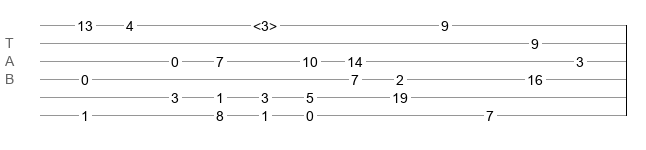0: (81, 72, 89, 82), (171, 54, 179, 64), (306, 108, 314, 118)
1: (81, 108, 89, 118), (216, 90, 224, 100), (261, 108, 269, 118)
10: (302, 54, 318, 64)
13: (77, 18, 93, 28)
14: (347, 54, 363, 64)
16: (527, 72, 543, 82)
19: (392, 90, 408, 100)
2: (396, 72, 404, 82)
3: (171, 90, 179, 100), (261, 90, 269, 100), (576, 54, 584, 64)
4: (126, 18, 134, 28)
5: (306, 90, 314, 100)
7: (216, 54, 224, 64), (351, 72, 359, 82), (486, 108, 494, 118)
8: (216, 108, 224, 118)
9: (441, 18, 449, 28), (531, 36, 539, 46)
harmonic: (253, 18, 277, 28)
